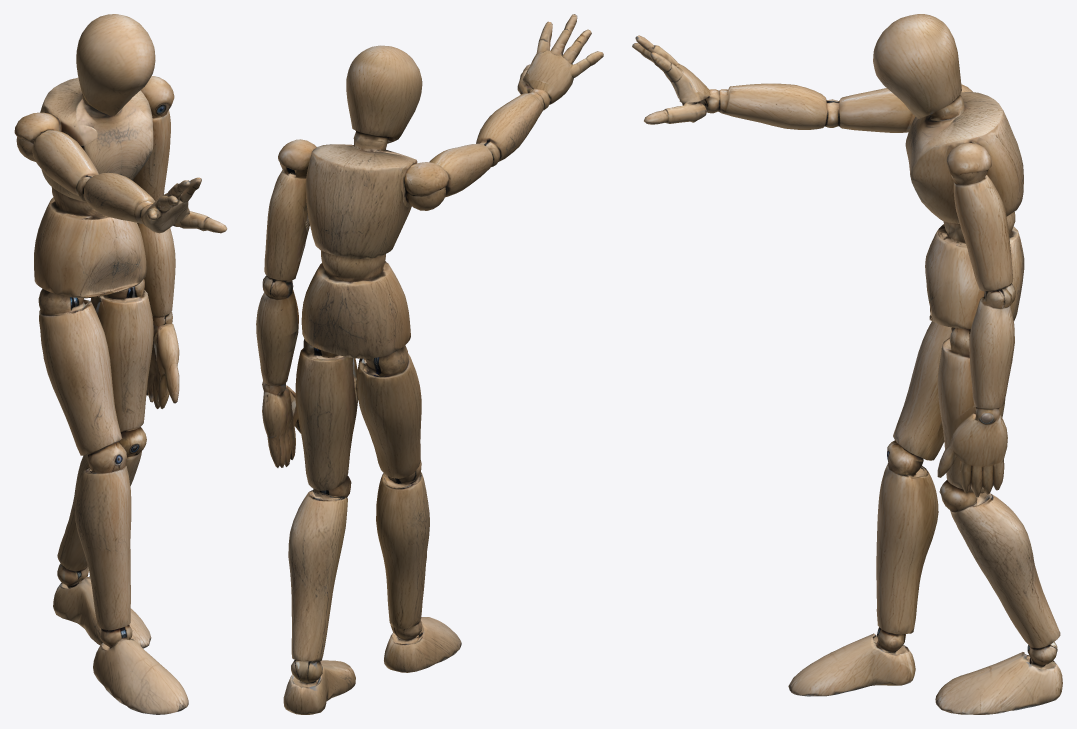
File: VAR_DollRoom_Doll_ArmReach.fbx
The picture shows the model from 3 angles, left to right: view 1: azimuth 30°, elevation 25°; view 2: azimuth 150°, elevation 25°; view 3: azimuth 270°, elevation 25°; orthographic projection. The views are drawn at different scales.
Parts seen in each view (by area): view 1: texture_mapping; view 2: texture_mapping; view 3: texture_mapping.
Part boxes in pixels (x1=…): texture_mapping: x1=14, y1=14, x2=227, y2=714; texture_mapping: x1=256, y1=14, x2=603, y2=714; texture_mapping: x1=632, y1=14, x2=1062, y2=714.
Bounding box in the file's own units: 0.3058 × 0.5813 × 1.
Materials: 1 (1 with a texture image).
